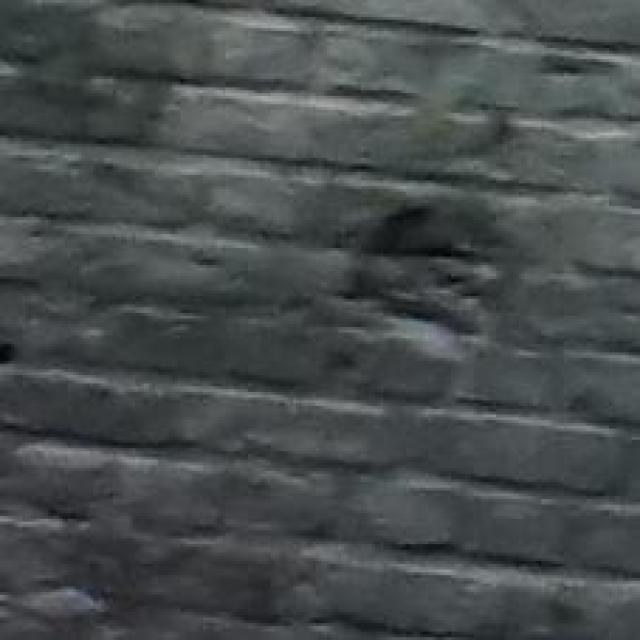Crack: (329, 79, 551, 417)
